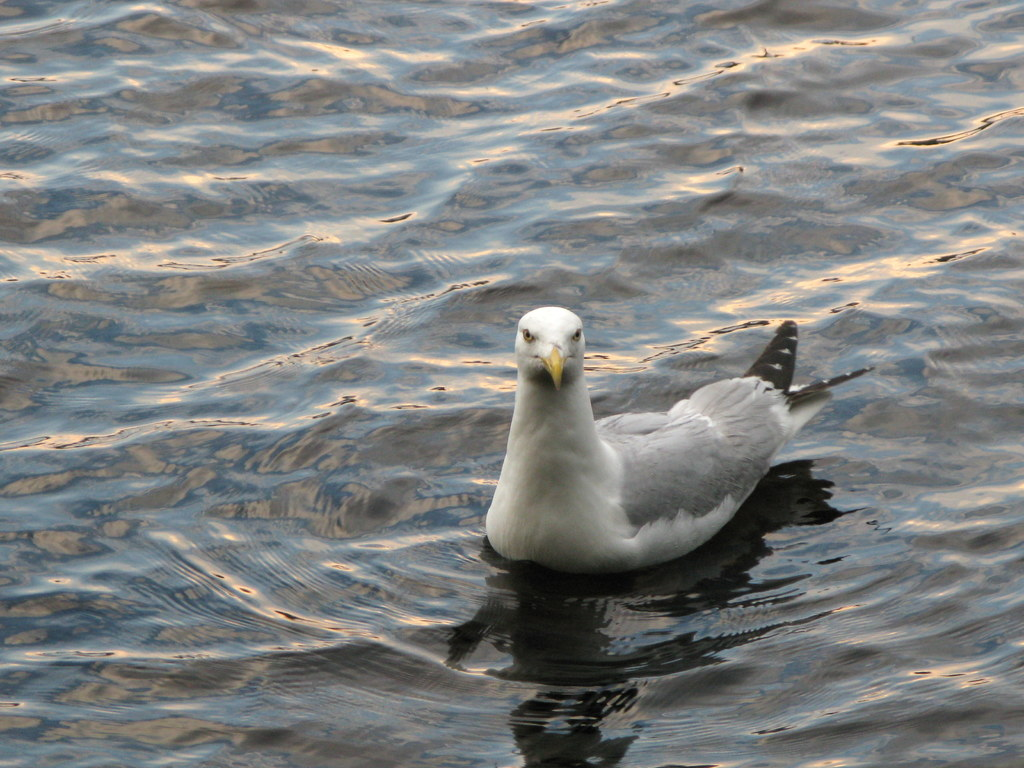Bird: (486, 307, 875, 576)
